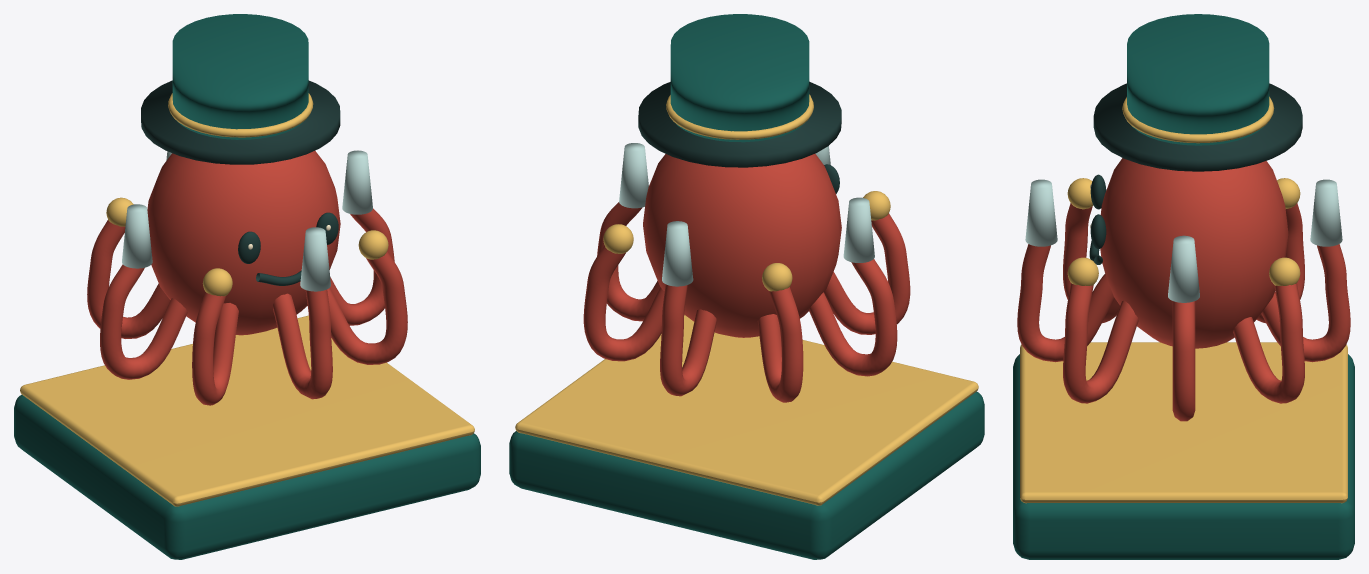
The picture shows the model from 3 angles, left to right: view 1: azimuth 30°, elevation 25°; view 2: azimuth 150°, elevation 25°; view 3: azimuth 270°, elevation 25°; orthographic projection. The views are drawn at different scales.
Visible parts, largest first — view 1: Brass welt, Jade footing, Octopus conductor, Bright eye, Cocktail arm.006, Cocktail arm.004, Cocktail arm.005, Cocktail arm.007, Cocktail arm.003, Cocktail arm, Cocktail shaker, Cocktail shaker.002 (+3 smaller); view 2: Brass welt, Jade footing, Octopus conductor, Bright eye, Cocktail arm.004, Cocktail arm.002, Cocktail arm.001, Cocktail arm.003, Cocktail arm.005, Cocktail arm, Cocktail shaker.001, Cocktail shaker.002 (+3 smaller); view 3: Brass welt, Jade footing, Octopus conductor, Bright eye, Cocktail arm.007, Cocktail arm.001, Cocktail arm.006, Cocktail arm.002, Cocktail arm, Cocktail shaker.001, Cocktail shaker.003, Cocktail shaker (+6 smaller).
Part boxes in pixels (box(x1,y1,x2,y2)): Brass welt: box(20, 93, 474, 506); Jade footing: box(14, 14, 480, 559); Octopus conductor: box(147, 151, 340, 335); Bright eye: box(141, 80, 340, 285); Cocktail arm.006: box(273, 289, 332, 399); Cocktail arm.004: box(100, 264, 187, 379); Cocktail arm.005: box(192, 292, 238, 405); Cocktail arm.007: box(327, 251, 407, 364); Cocktail arm.003: box(87, 219, 170, 338); Cocktail arm: box(330, 208, 394, 325); Cocktail shaker: box(342, 150, 372, 214); Cocktail shaker.002: box(122, 204, 152, 268); Brass welt: box(515, 94, 978, 505); Jade footing: box(509, 14, 984, 559); Octopus conductor: box(643, 153, 841, 337); Bright eye: box(638, 81, 841, 193); Cocktail arm.004: box(809, 259, 897, 376); Cocktail arm.002: box(660, 284, 716, 396); Cocktail arm.001: box(583, 245, 664, 361); Cocktail arm.003: box(757, 287, 803, 402); Cocktail arm.005: box(824, 213, 910, 334); Cocktail arm: box(597, 202, 660, 321); Cocktail shaker.001: box(662, 221, 693, 286); Cocktail shaker.002: box(843, 197, 874, 262); Brass welt: box(1020, 96, 1347, 503); Jade footing: box(1013, 14, 1354, 559); Octopus conductor: box(1100, 158, 1288, 348); Bright eye: box(1089, 83, 1302, 264); Cocktail arm.007: box(1063, 283, 1138, 403); Cocktail arm.001: box(1233, 283, 1304, 403); Cocktail arm.006: box(1017, 244, 1114, 362); Cocktail arm.002: box(1261, 244, 1350, 362); Cocktail arm: box(1172, 301, 1195, 421); Cocktail shaker.001: box(1310, 179, 1342, 246); Cocktail shaker.003: box(1025, 179, 1057, 246); Cocktail shaker: box(1168, 235, 1199, 302).
Size of the model in its own units: 0.8 by 1.03 by 0.72.
